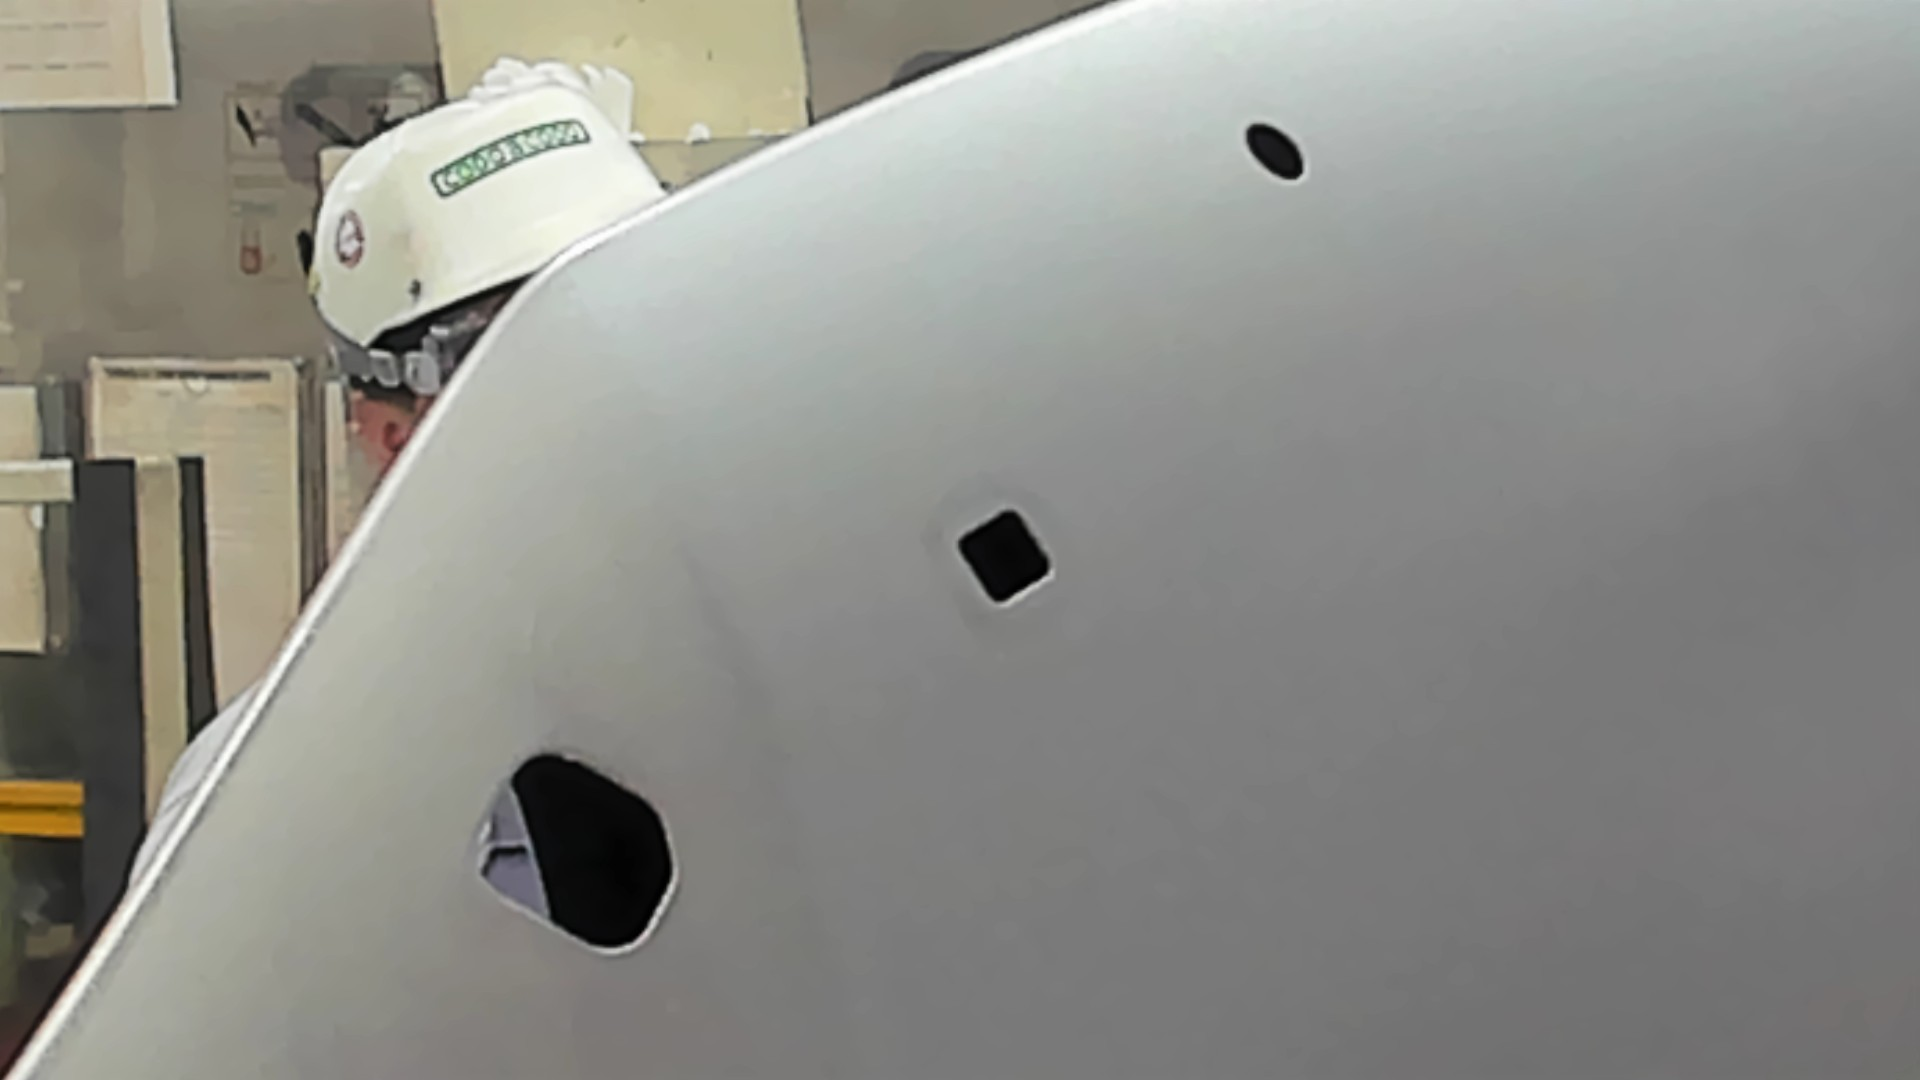Agujero: (956, 506, 1056, 609), (1241, 120, 1305, 179)
Agujerote: (464, 750, 680, 957)
